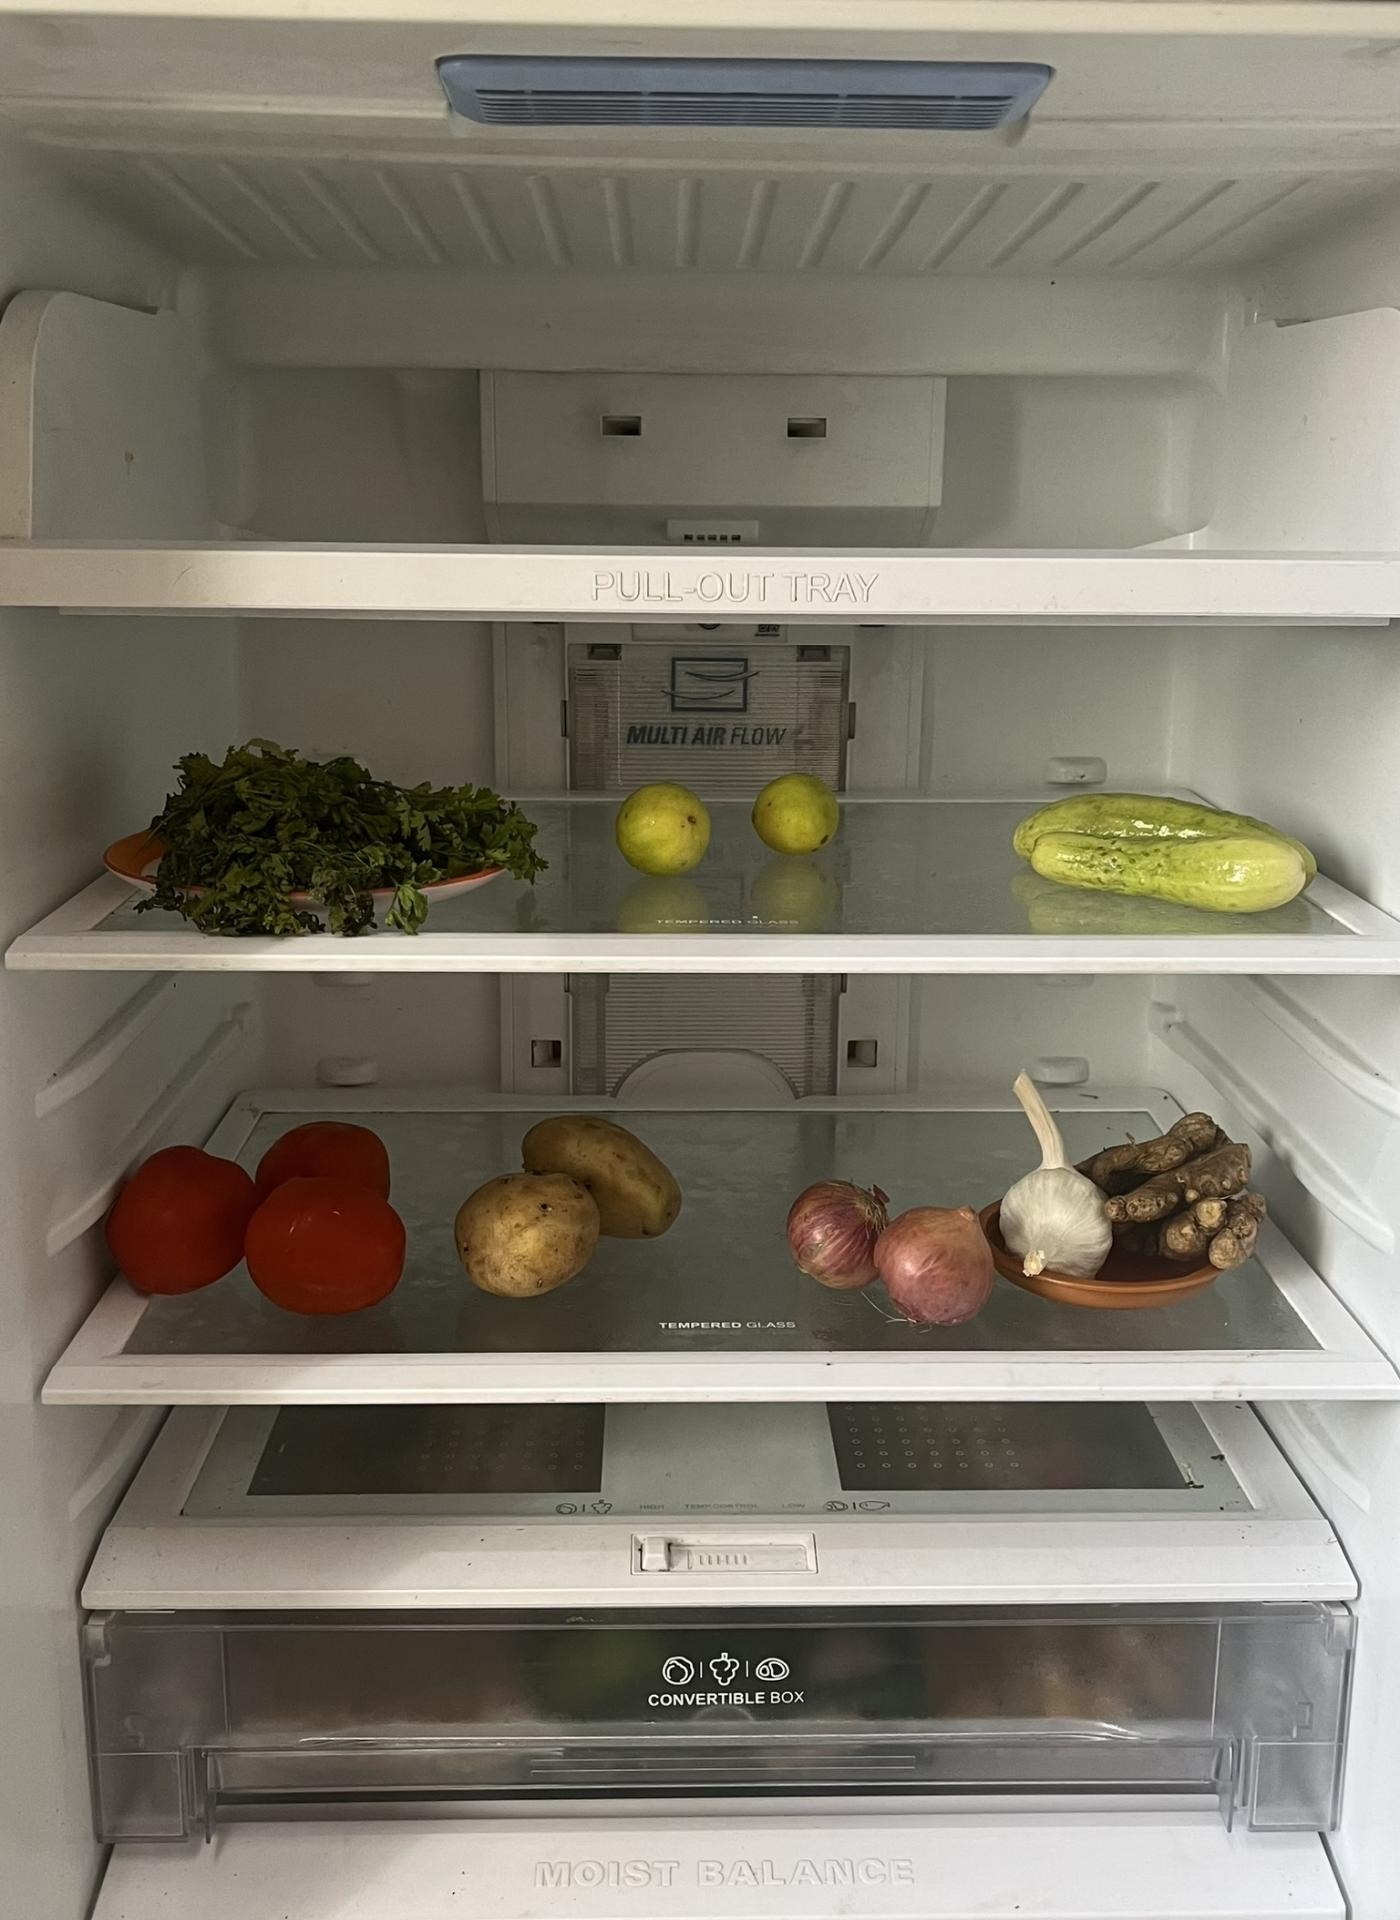coriander: (139, 742, 526, 939)
cucumber: (1012, 789, 1322, 918)
garlic: (1014, 1079, 1106, 1272)
ginger: (1100, 1112, 1255, 1261)
lemon: (617, 784, 839, 871)
onion: (792, 1178, 978, 1309)
potato: (467, 1117, 675, 1283)
tomato: (101, 1122, 406, 1309)
